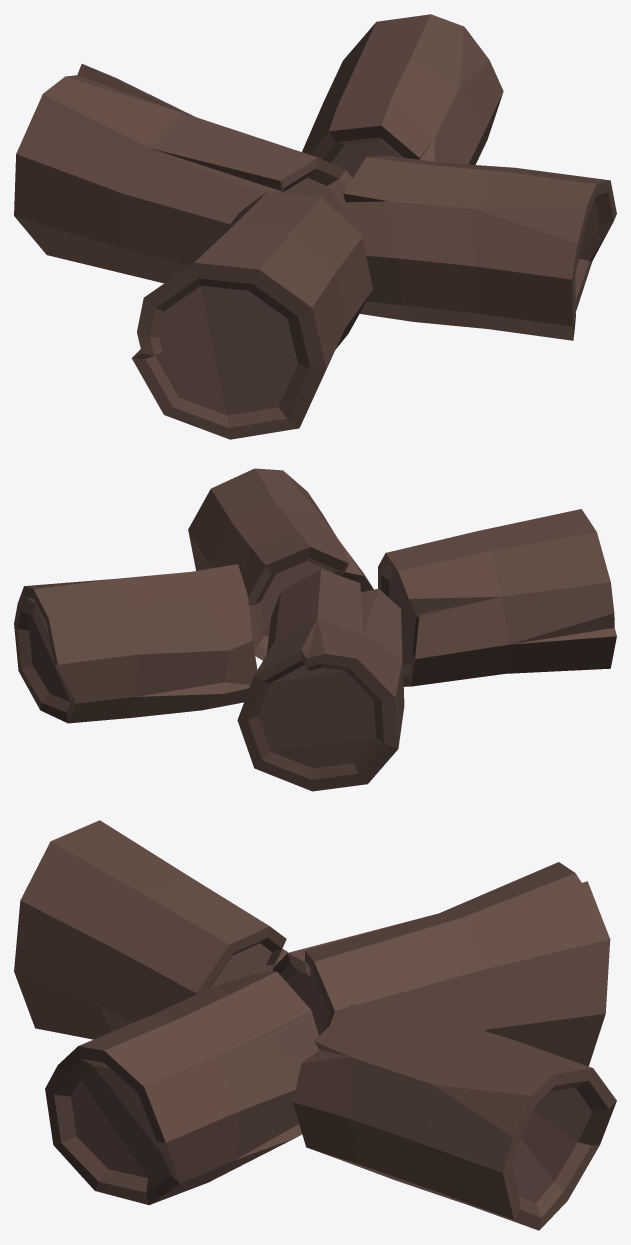
Rendered from Bonfire.glb.
3 views of the same model, one above another, from view 1: azimuth 30°, elevation 25°; view 2: azimuth 150°, elevation 25°; view 3: azimuth 270°, elevation 25° (orthographic). The views are drawn at different scales.
Parts seen in each view (by area): view 1: Bonfire; view 2: Bonfire; view 3: Bonfire.
Part boxes in pixels (left/top/right/bottom): Bonfire: left=14, top=14, right=616, bottom=439; Bonfire: left=14, top=468, right=616, bottom=791; Bonfire: left=14, top=820, right=616, bottom=1230.
Bounding box in the file's own units: 2.18 × 0.6757 × 1.98.
